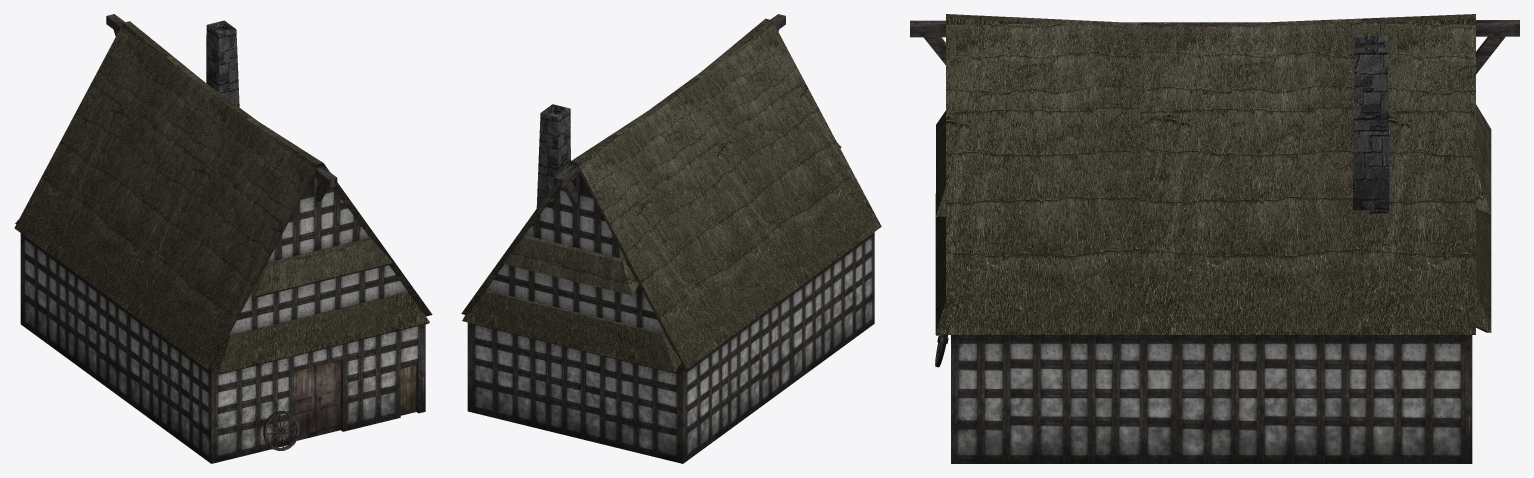
File: Barn.obj
The picture shows the model from 3 angles, left to right: view 1: azimuth 30°, elevation 25°; view 2: azimuth 150°, elevation 25°; view 3: azimuth 270°, elevation 25°; orthographic projection. The views are drawn at different scales.
Size of the model in its own units: 0.9644 by 1.17 by 1.66.
12 materials, 11 textured.
